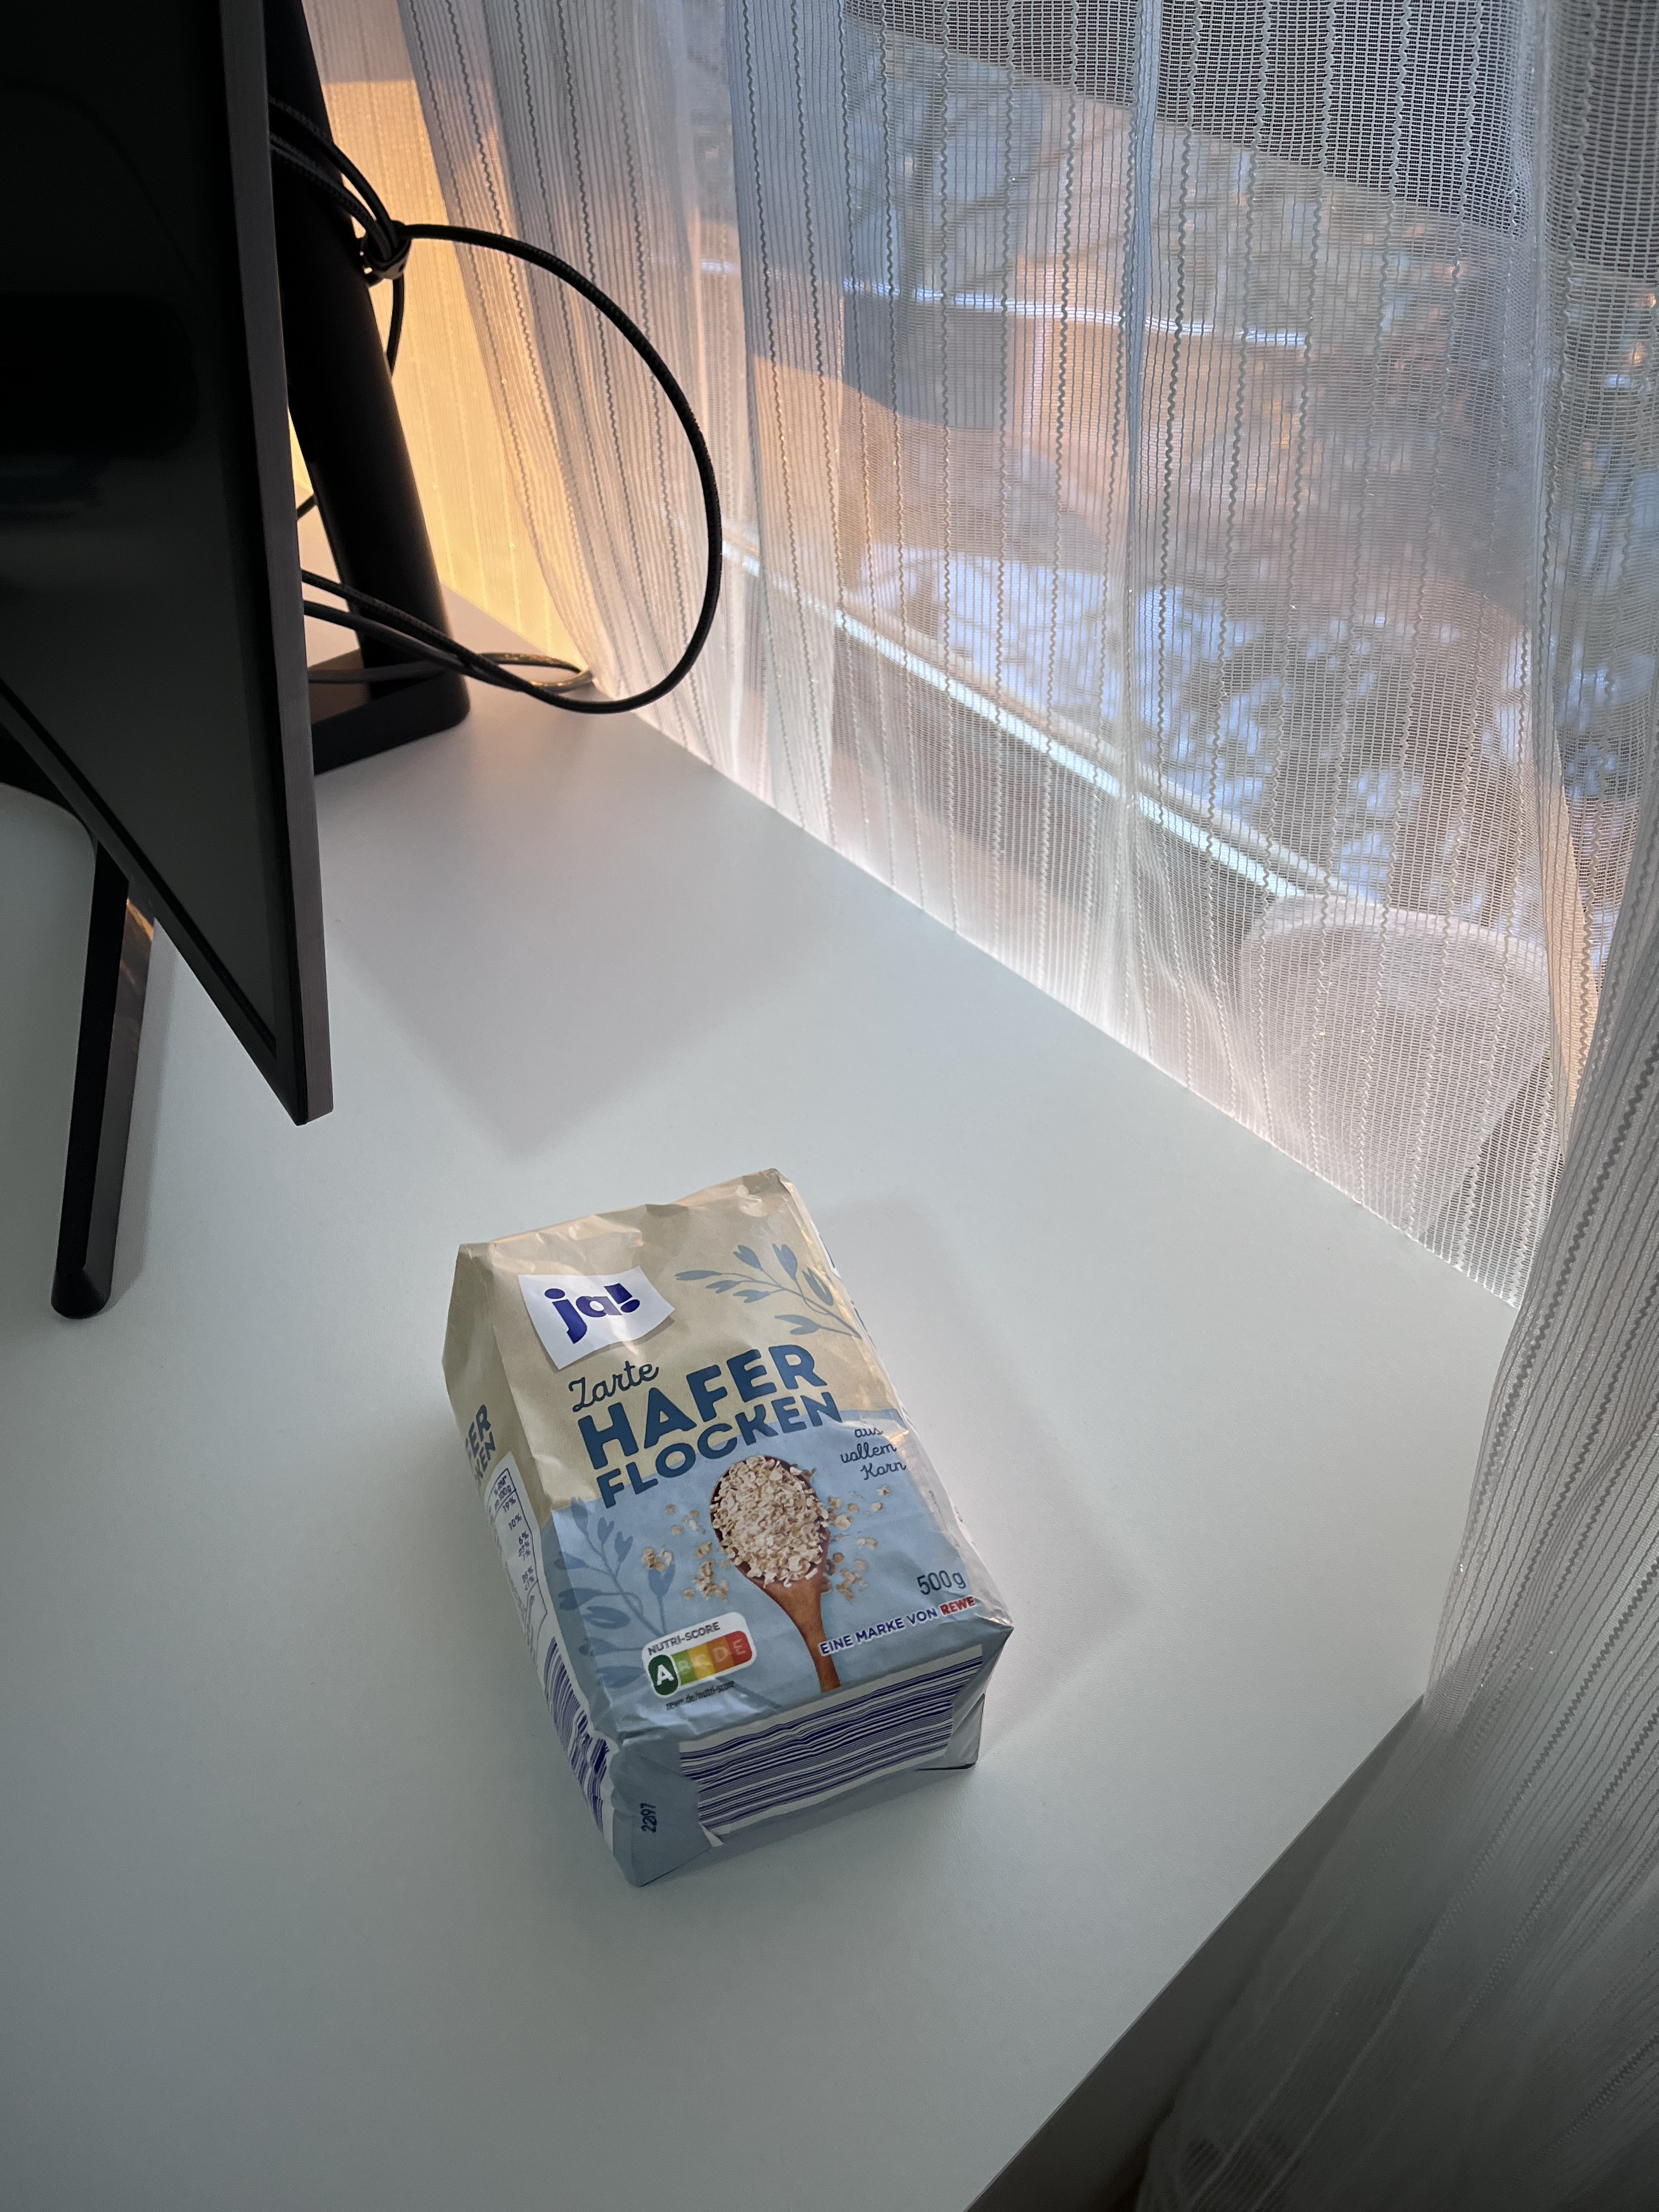haferflocken_ja: (446, 1163, 1011, 1890)
